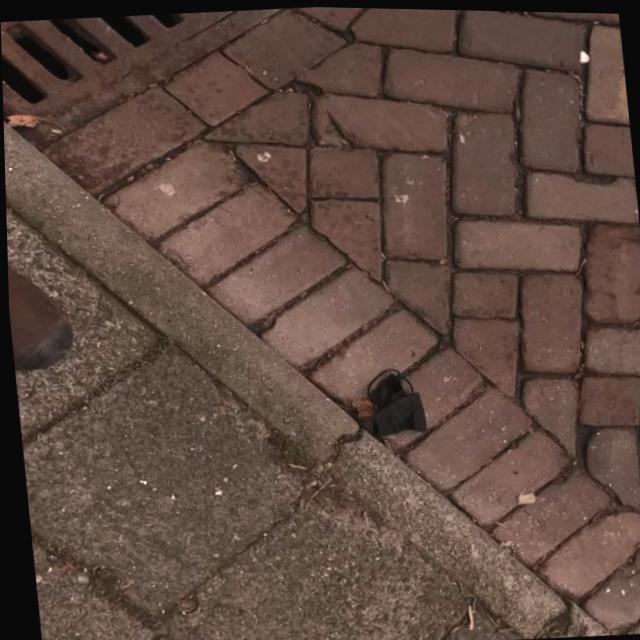Mask: (360, 364, 425, 439)
